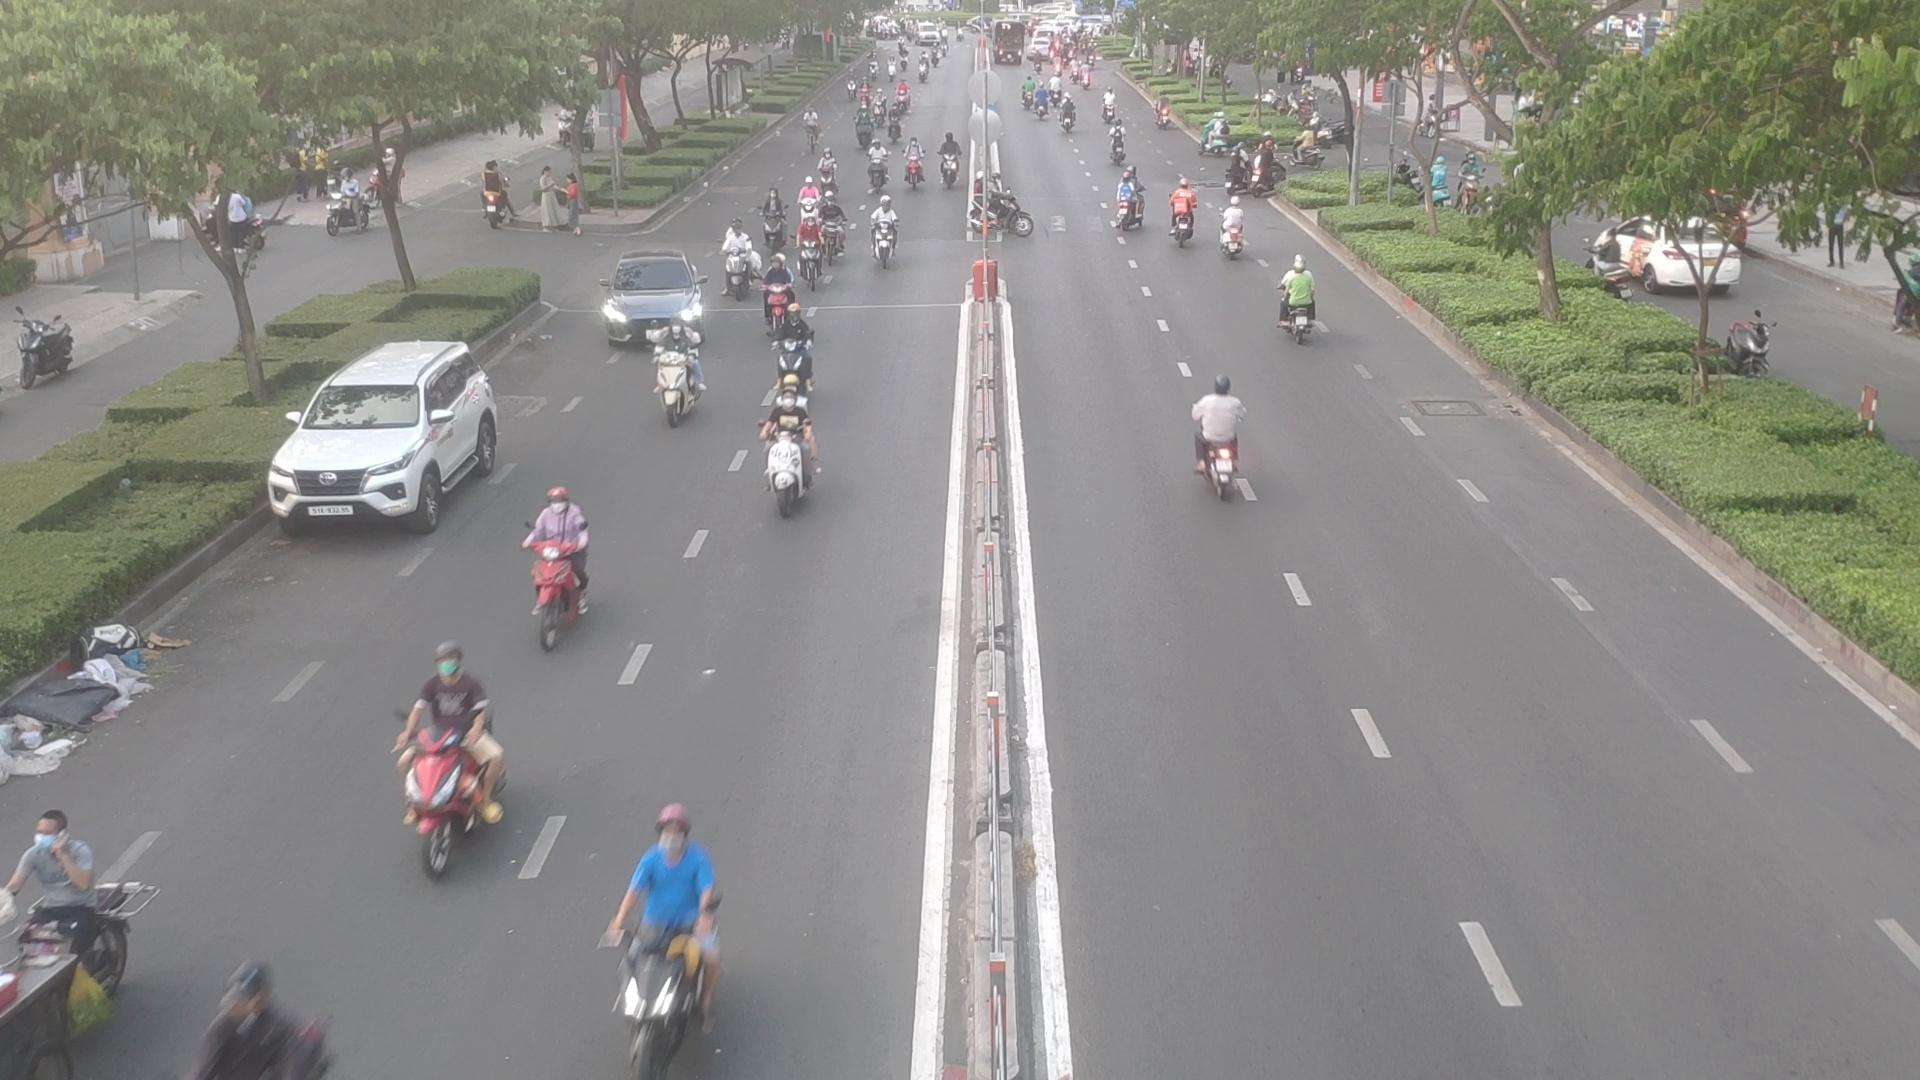car: (272, 342, 516, 531), (593, 257, 712, 349)
motorbike: (0, 819, 133, 1076), (596, 816, 727, 1073), (385, 659, 512, 874), (517, 487, 607, 632), (760, 390, 833, 520), (1188, 381, 1265, 496), (647, 342, 709, 426), (1269, 262, 1325, 343), (775, 302, 814, 402), (981, 189, 1039, 240), (717, 237, 760, 299), (794, 214, 827, 293), (756, 262, 796, 326), (1167, 185, 1203, 251), (866, 210, 903, 272), (756, 187, 790, 247), (816, 203, 851, 258), (1116, 177, 1150, 232), (1221, 204, 1255, 260), (799, 229, 829, 285), (812, 152, 847, 198), (938, 136, 967, 187), (794, 181, 820, 229), (905, 142, 931, 190), (866, 144, 890, 185)
